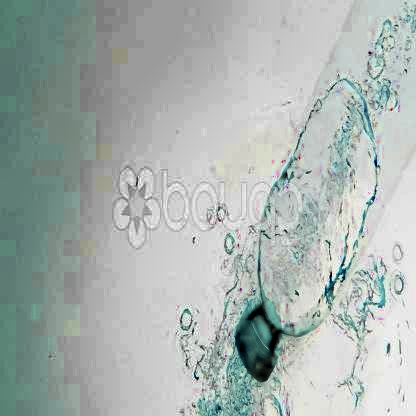pbottle: (231, 2, 416, 389)
